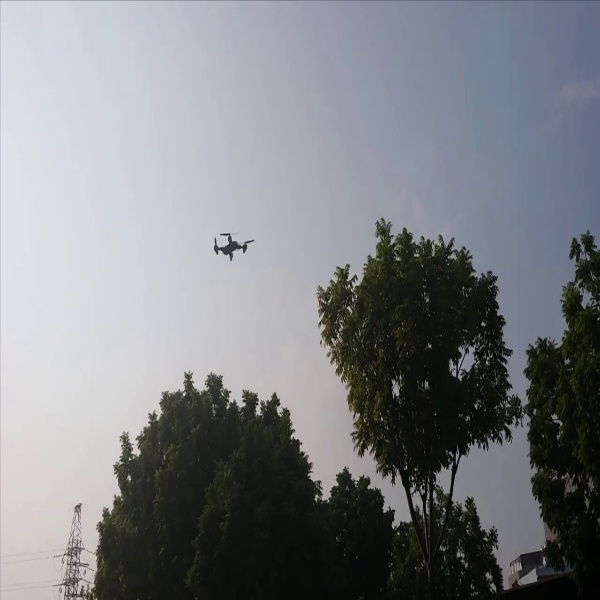drone: (210, 228, 258, 266)
